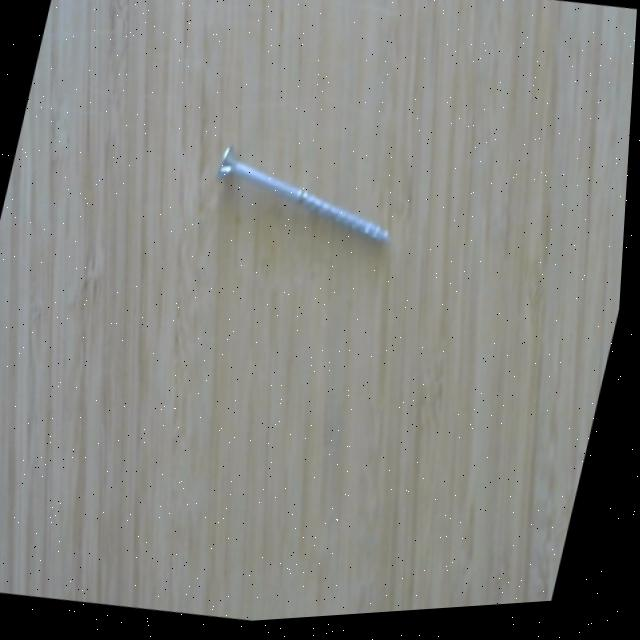Long screw: (197, 125, 426, 272)
